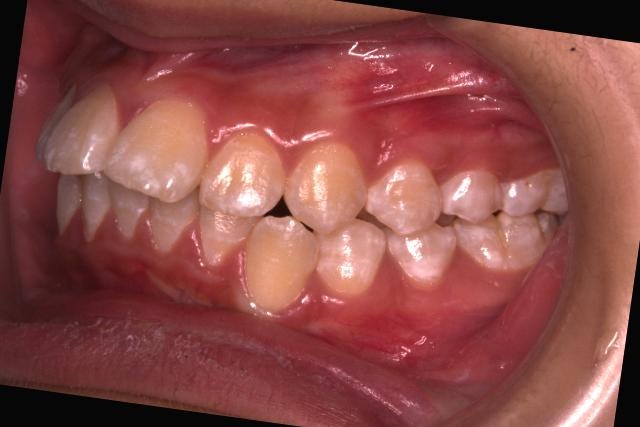canine class III 1/4: (231, 114, 404, 333)
molar class III 1/2: (444, 144, 580, 283)
